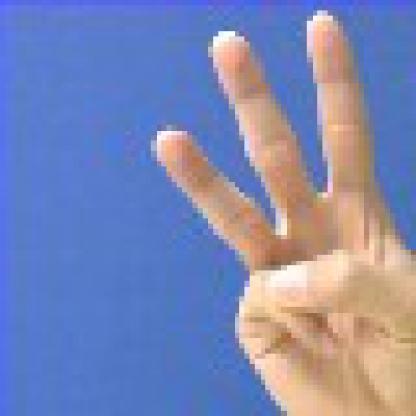three: (148, 8, 415, 415)
